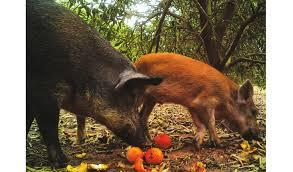wildboar: (26, 0, 164, 166), (134, 52, 261, 149)
